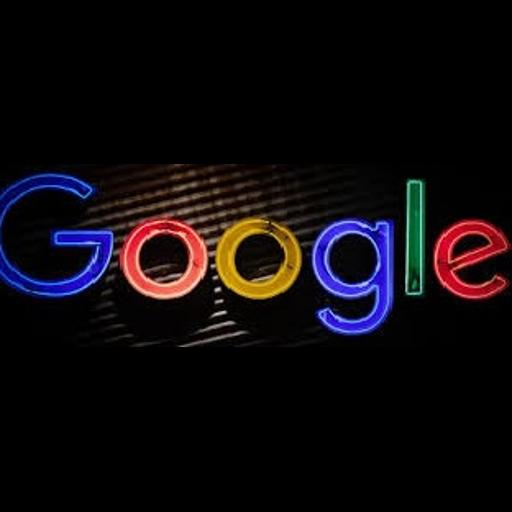Google: (0, 164, 512, 347)
